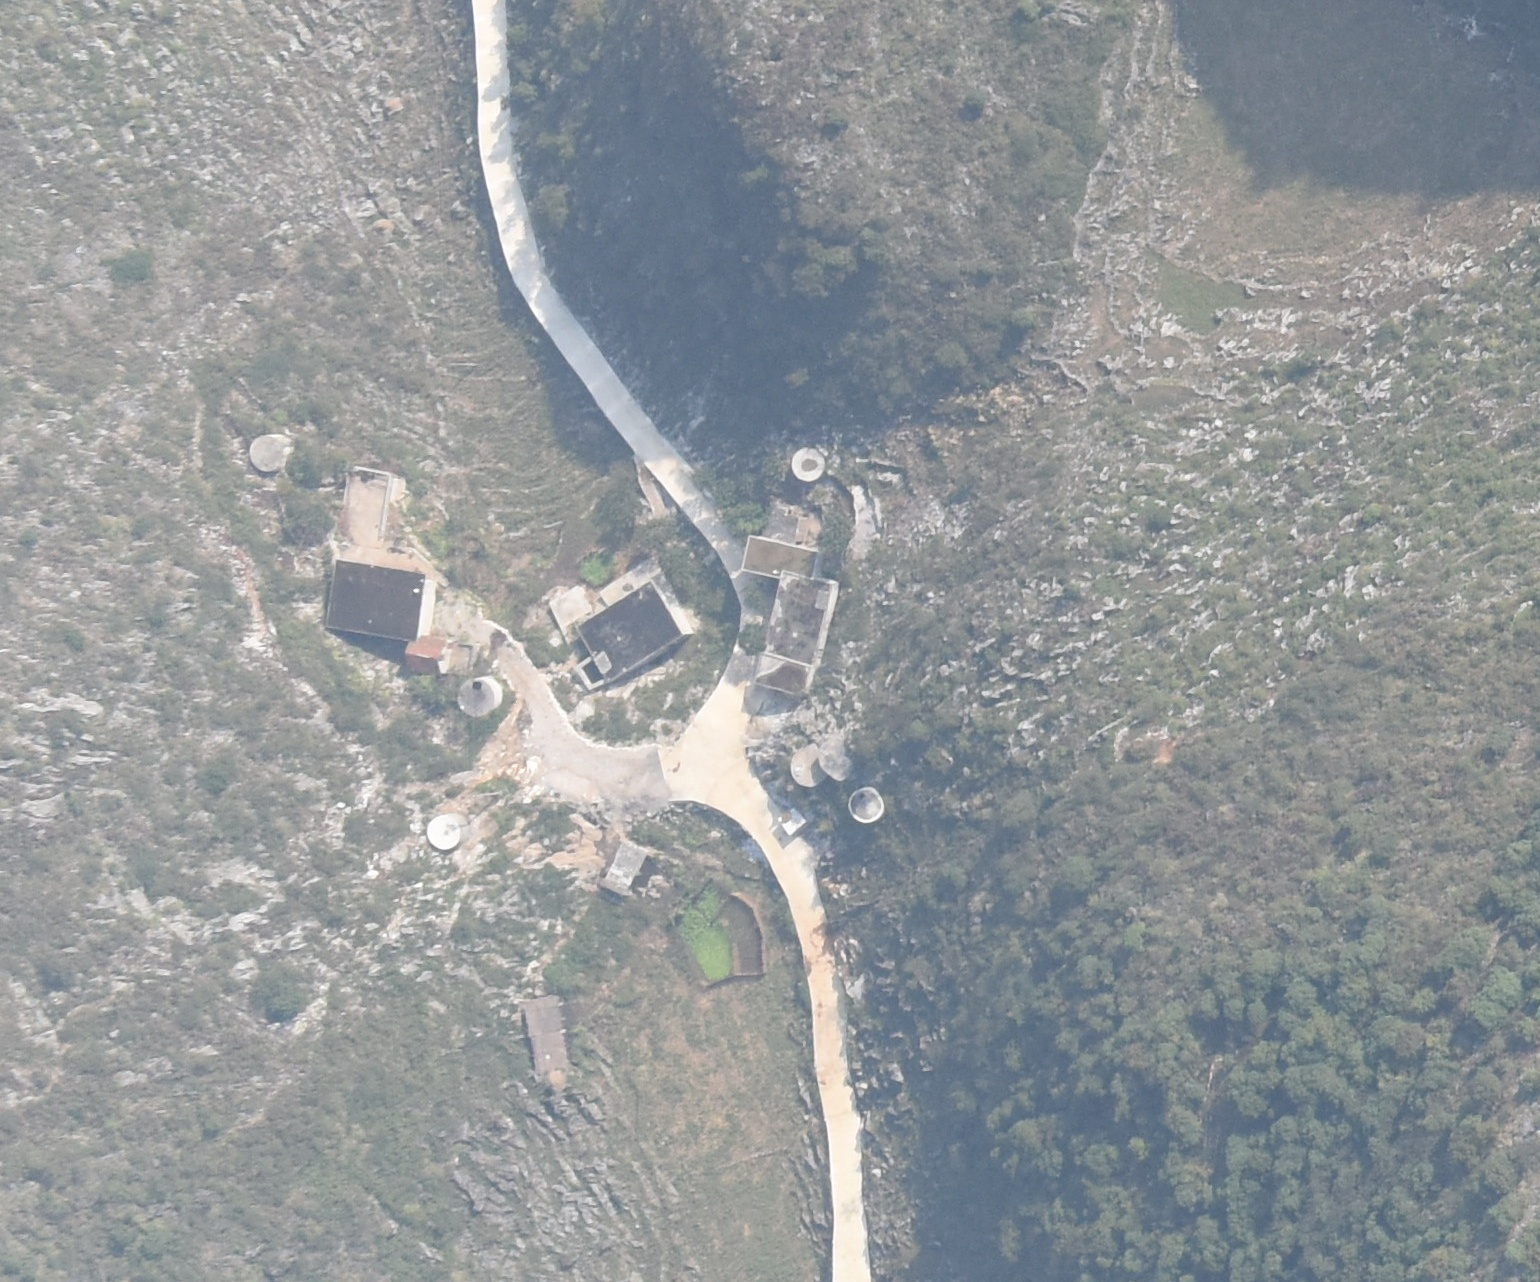building: (737, 537, 837, 704), (574, 581, 696, 692), (324, 557, 428, 641), (518, 995, 568, 1075), (602, 839, 647, 894), (400, 638, 455, 670)
well: (792, 746, 851, 786), (247, 430, 288, 472), (457, 678, 501, 716), (845, 784, 886, 824), (423, 810, 463, 850), (790, 441, 828, 482)
